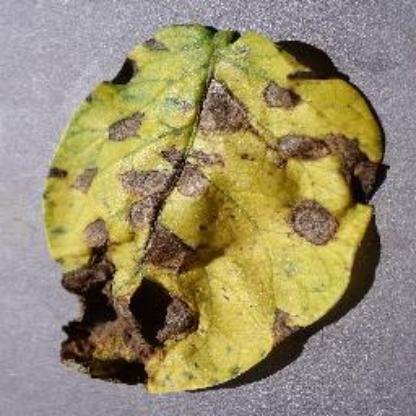Early-Blight: (40, 19, 400, 398)
